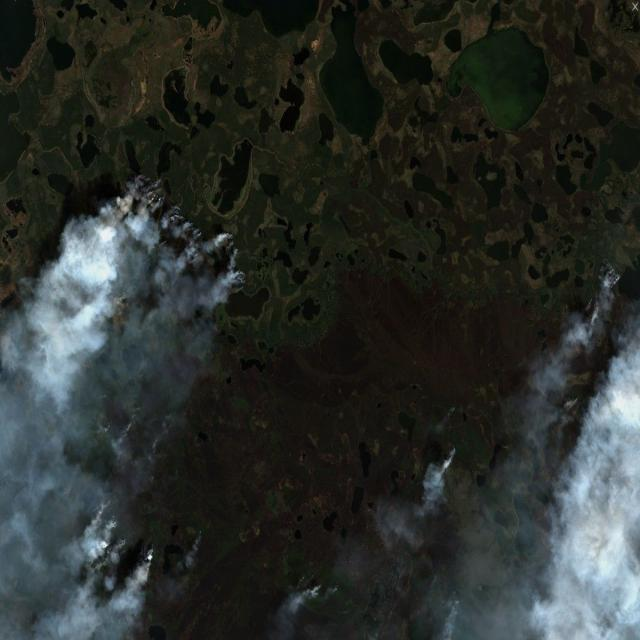fire: (106, 167, 252, 322), (569, 247, 640, 445), (85, 495, 167, 606), (279, 576, 343, 623), (429, 428, 463, 512), (435, 590, 466, 640), (183, 525, 206, 569)
